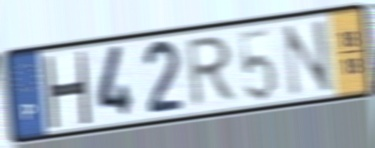2: (140, 37, 188, 118)
4: (94, 42, 139, 124)
5: (237, 25, 280, 103)
H: (41, 50, 93, 129)
N: (281, 17, 335, 100)
R: (185, 33, 240, 111)
